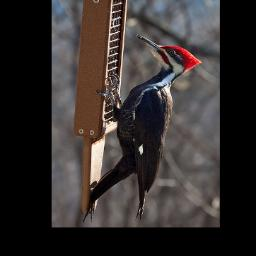Woodpecker: (82, 33, 203, 223)
